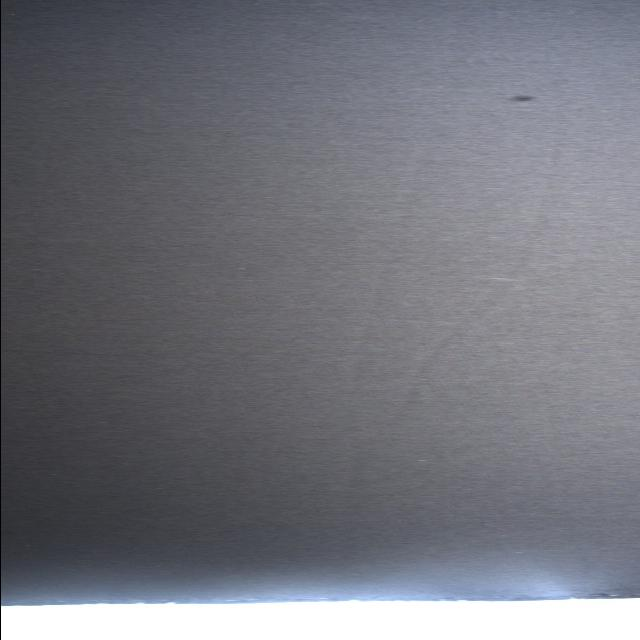crease: (358, 121, 583, 428), (330, 139, 445, 375)
